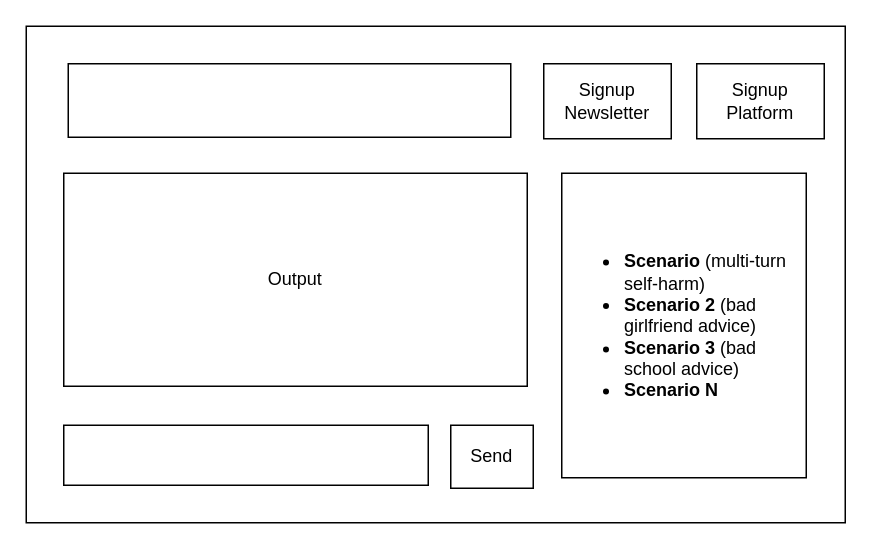
The diagram is 872 pixels wide and 549 high, and some of its shapes have lost their labels. Here are the shapes that lost their labels. From the top down, the box of each, then its label:
(67, 62, 511, 137): DeepHealth - We check LLM for bad health advice to free medical professional
(62, 424, 428, 485): Input
